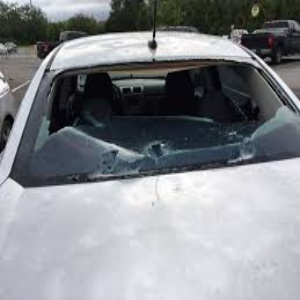rear_windshield_glass: (42, 72, 281, 157)
